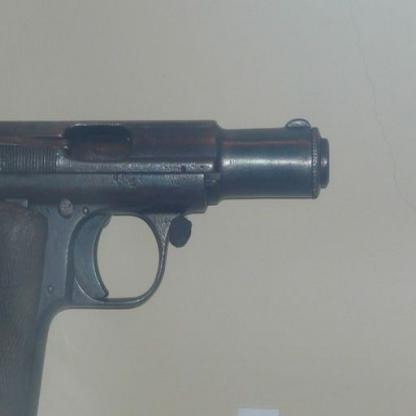gun: (0, 114, 331, 415)
